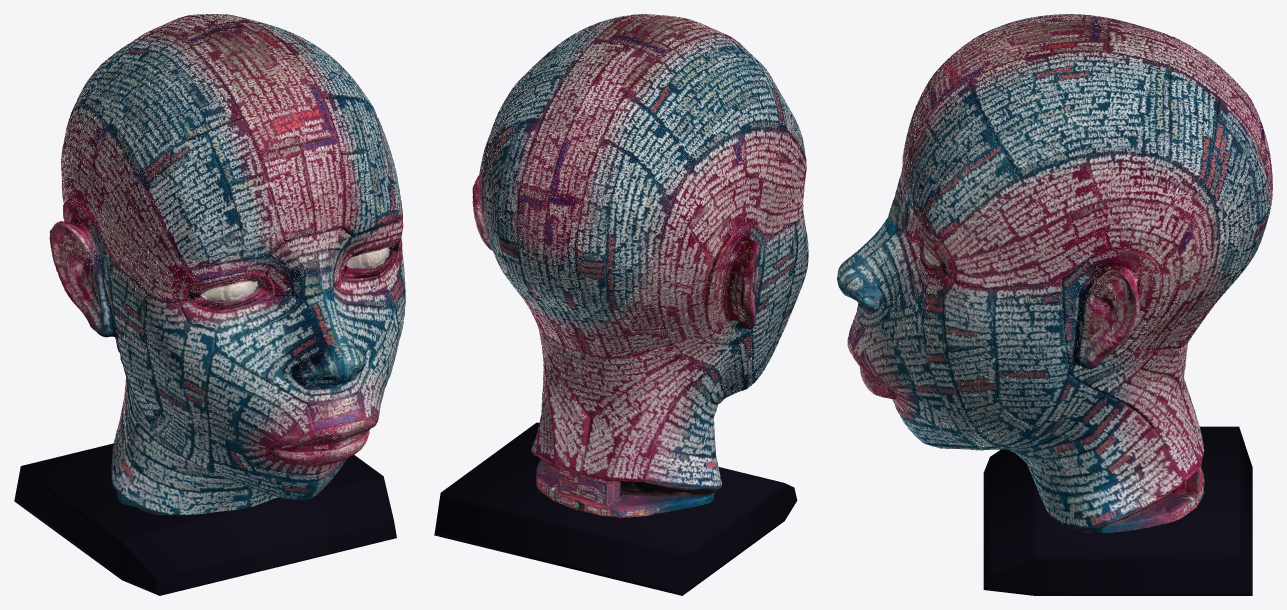
The model's file is arvr-transformed.glb.
The picture shows the model from 3 angles, left to right: view 1: azimuth 30°, elevation 25°; view 2: azimuth 150°, elevation 25°; view 3: azimuth 270°, elevation 25°; orthographic projection. The views are drawn at different scales.
Parts seen in each view (by area): view 1: Cube_1, Object_13, Object_6, Object_14, Object_4, Object_5, Object_10, Object_7, Object_12, Object_8, Object_11, Object_9 (+1 smaller); view 2: Object_5, Cube_1, Object_7, Object_4, Object_6, Object_13, Object_8, Object_9, Object_11, Object_12, Object_10, Object_14 (+1 smaller); view 3: Object_12, Object_8, Cube_1, Object_7, Object_11, Object_4, Object_5, Object_9, Object_6, Object_13, Object_10, Object_14.
Boxes of the visible parts, <box> form: Cube_1: <box>14,413,396,595</box>; Object_13: <box>56,14,401,445</box>; Object_6: <box>57,14,402,511</box>; Object_14: <box>71,34,376,515</box>; Object_4: <box>56,14,402,510</box>; Object_5: <box>57,14,401,499</box>; Object_10: <box>51,34,405,515</box>; Object_7: <box>57,14,401,514</box>; Object_12: <box>158,14,405,415</box>; Object_8: <box>57,14,402,514</box>; Object_11: <box>49,20,405,514</box>; Object_9: <box>59,14,404,514</box>; Object_5: <box>473,15,806,508</box>; Cube_1: <box>434,422,797,595</box>; Object_7: <box>475,21,805,509</box>; Object_4: <box>477,14,806,512</box>; Object_6: <box>474,14,806,508</box>; Object_13: <box>473,15,807,481</box>; Object_8: <box>473,15,806,516</box>; Object_9: <box>473,18,803,517</box>; Object_11: <box>472,17,797,504</box>; Object_12: <box>475,14,785,491</box>; Object_10: <box>472,14,808,517</box>; Object_14: <box>479,20,808,465</box>; Object_12: <box>876,20,1272,478</box>; Object_8: <box>878,14,1272,530</box>; Cube_1: <box>983,426,1252,595</box>; Object_7: <box>851,15,1272,528</box>; Object_11: <box>841,17,1268,532</box>; Object_4: <box>847,14,1272,527</box>; Object_5: <box>841,14,1272,528</box>; Object_9: <box>840,14,1271,527</box>; Object_6: <box>851,14,1272,531</box>; Object_13: <box>838,14,1272,531</box>; Object_10: <box>837,25,1268,532</box>; Object_14: <box>847,14,1272,522</box>.
Bounding box in the file's own units: 0.5105 × 0.8097 × 0.6309.
3 materials, 1 textured.
